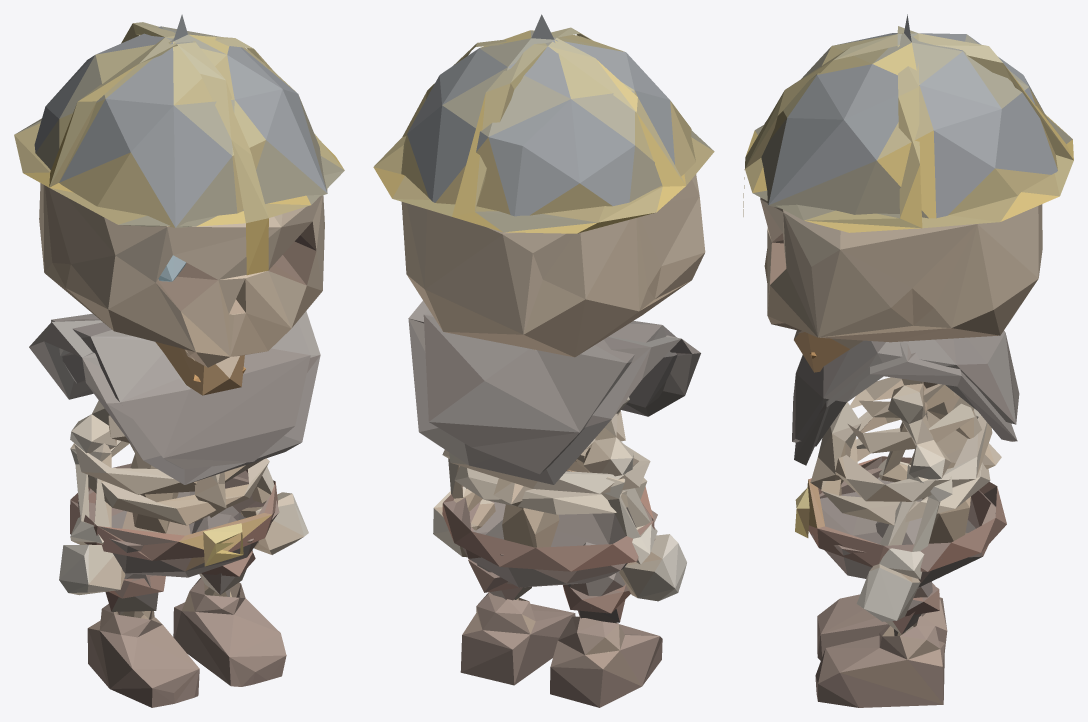
Rendered from sk_Viking.obj.
The picture shows the model from 3 angles, left to right: view 1: azimuth 30°, elevation 25°; view 2: azimuth 150°, elevation 25°; view 3: azimuth 270°, elevation 25°; orthographic projection. The views are drawn at different scales.
Parts seen in each view (by area): view 1: sk_Viking; view 2: sk_Viking; view 3: sk_Viking.
Part boxes in pixels (bbox=[...]): sk_Viking: bbox=[14, 14, 344, 707]; sk_Viking: bbox=[373, 14, 714, 707]; sk_Viking: bbox=[743, 14, 1073, 707].
Bounding box in the file's own units: 5.6 × 13 × 5.9.
